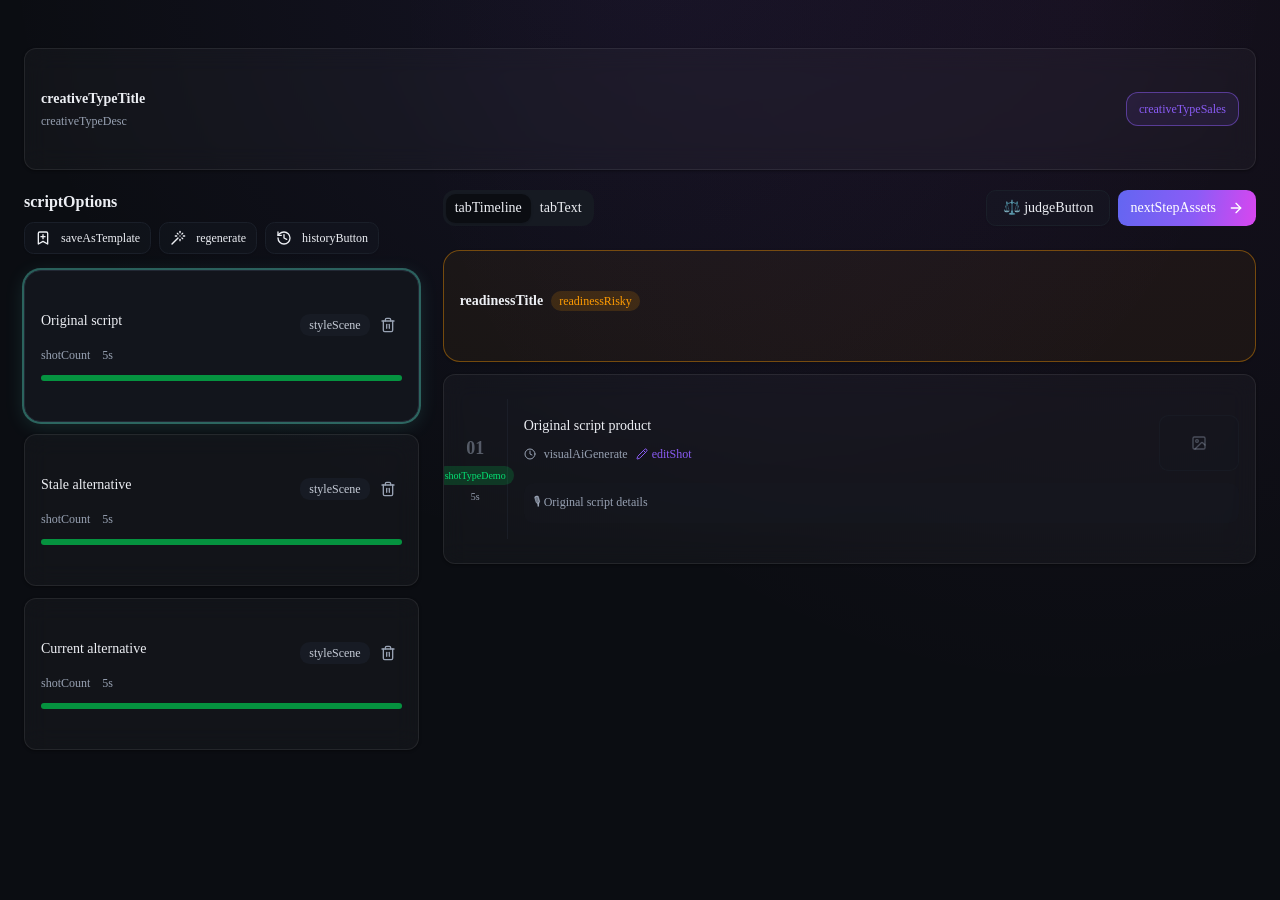
Test case: saved script configuration versions › switches saved options with different snapshot versions without a regeneration warning
The width and height of the screenshot is (1280, 900).
Click the element with class "cursor-pointer" that starts with "Stale alternative" at (221, 510), box [24,434,419,586]
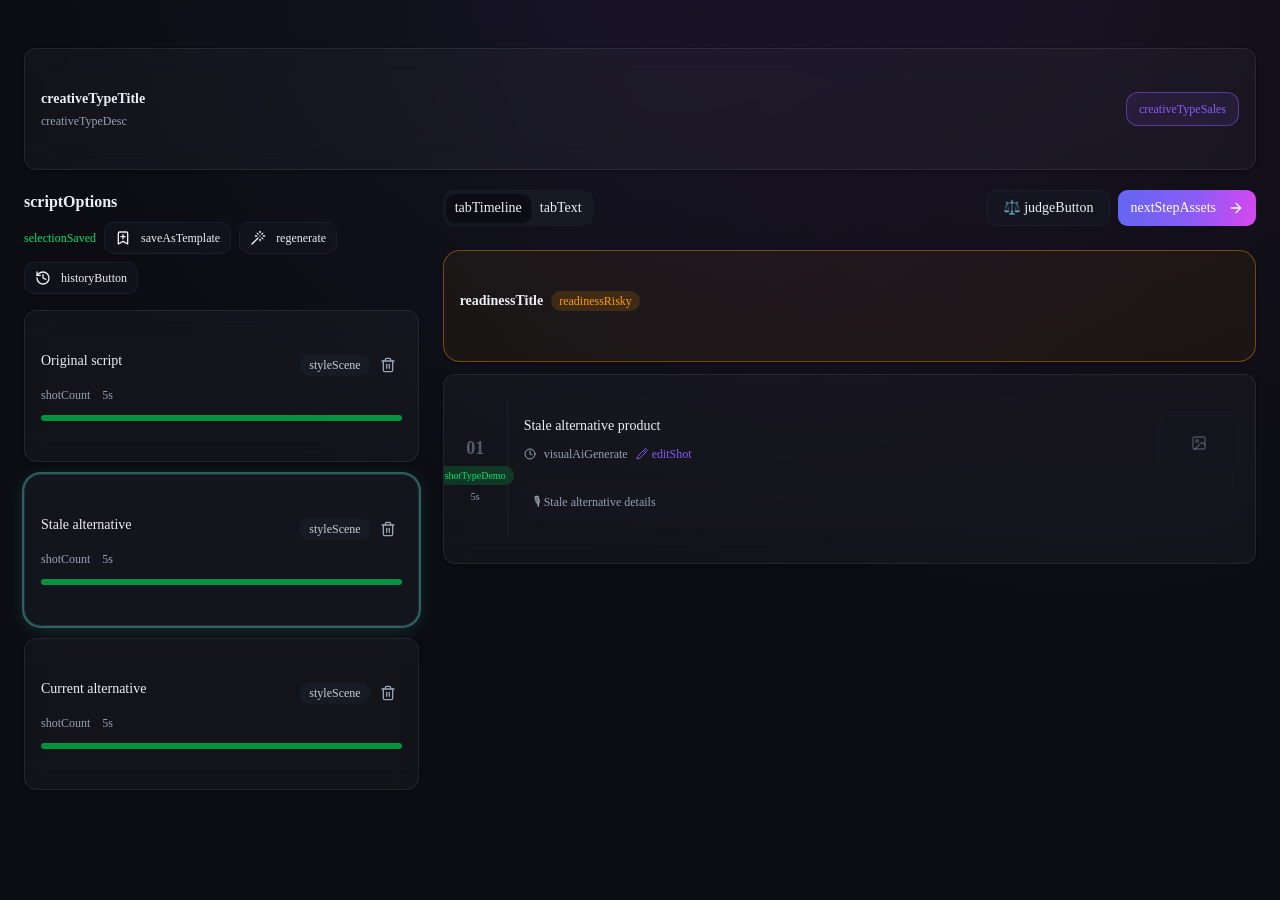
Expected: the text "Stale alternative details" is shown, [544,495,656,509]
Click the element with class "cursor-pointer" that starts with "Current alternative" at (221, 714), box [24,638,419,790]
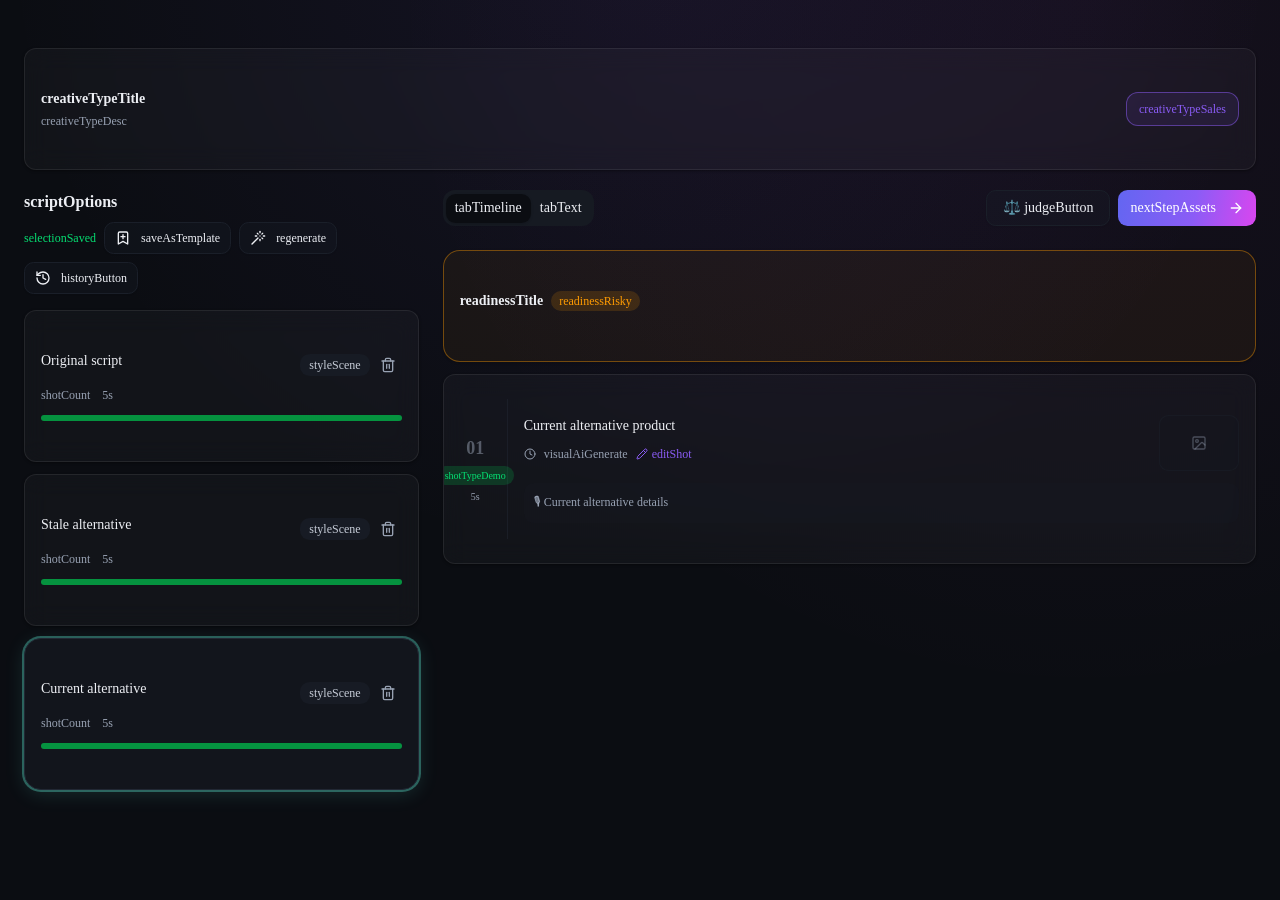
Expected: the text "Current alternative details" is shown, [544,495,668,509]
